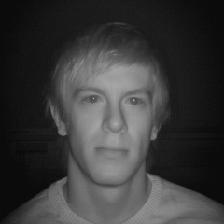normal: (41, 13, 166, 188)
